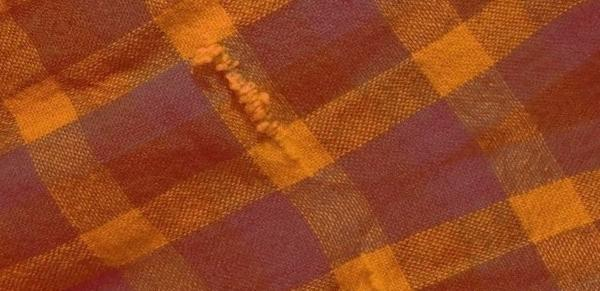knot: (184, 28, 301, 182)
